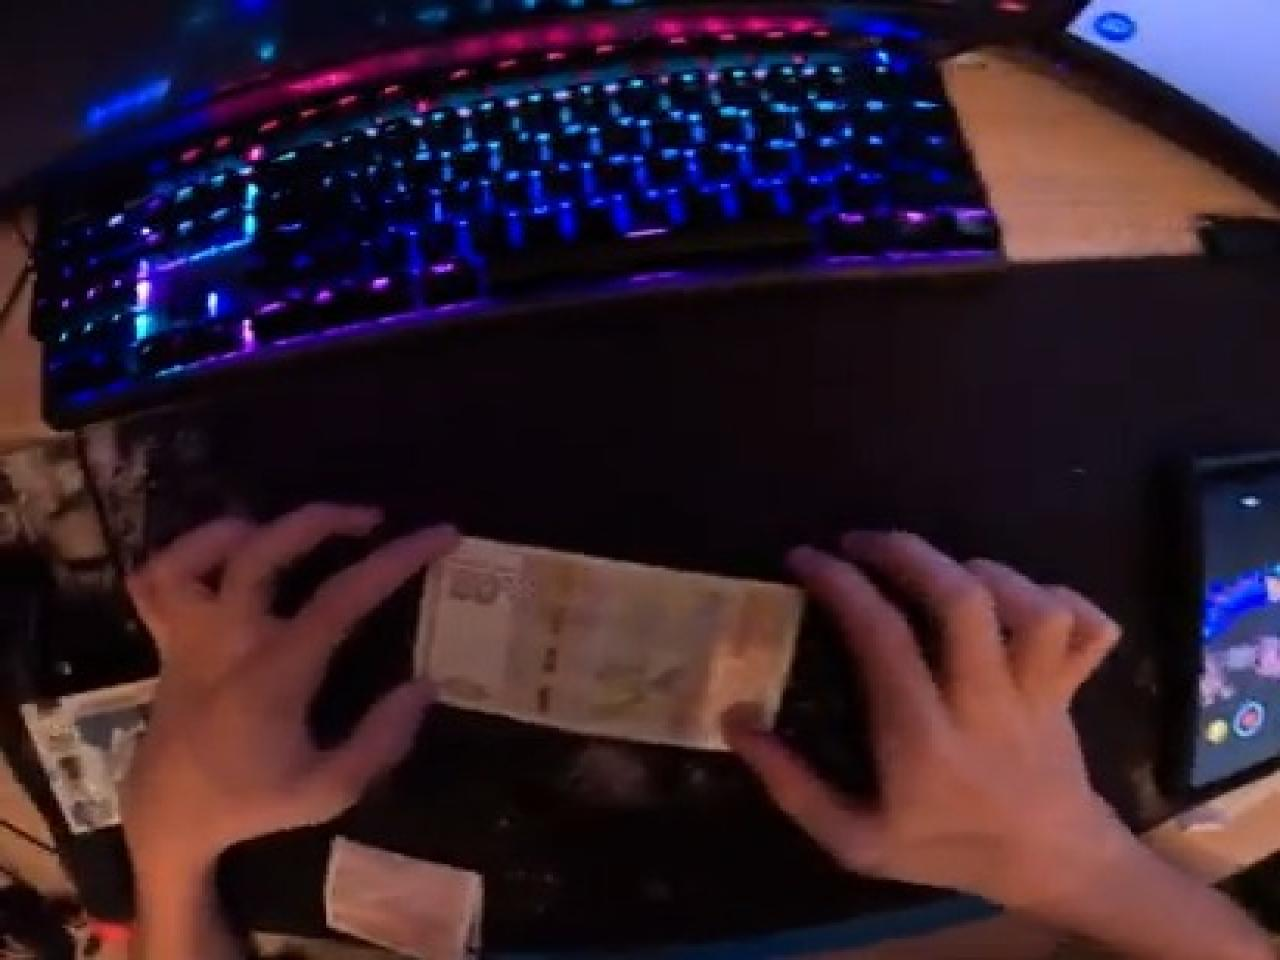50leva: (410, 536, 811, 757)
